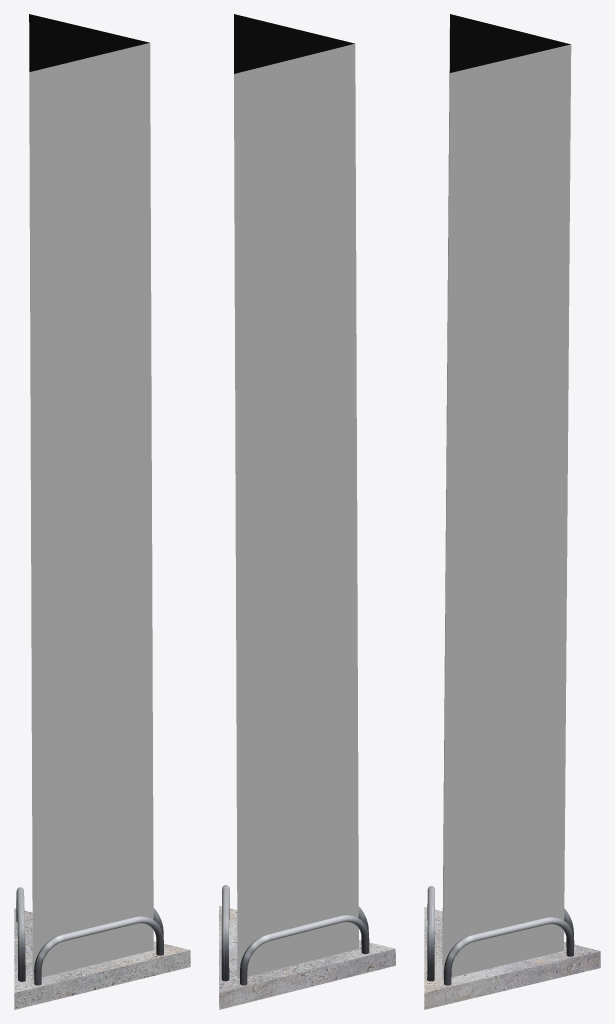
The model's file is panneau.gltf.
3 renders of one model, left to right at view 1: azimuth 30°, elevation 25°; view 2: azimuth 150°, elevation 25°; view 3: azimuth 270°, elevation 25°, orthographic.
Parts seen in each view (by area): view 1: sitePlan3; view 2: sitePlan3; view 3: sitePlan3.
Boxes of the visible parts, x1,y1,x2,y2 form: sitePlan3: (14, 14, 190, 1009); sitePlan3: (219, 14, 395, 1009); sitePlan3: (424, 14, 600, 1009).
Bounding box in the file's own units: 0.7104 × 3.56 × 0.6157.
